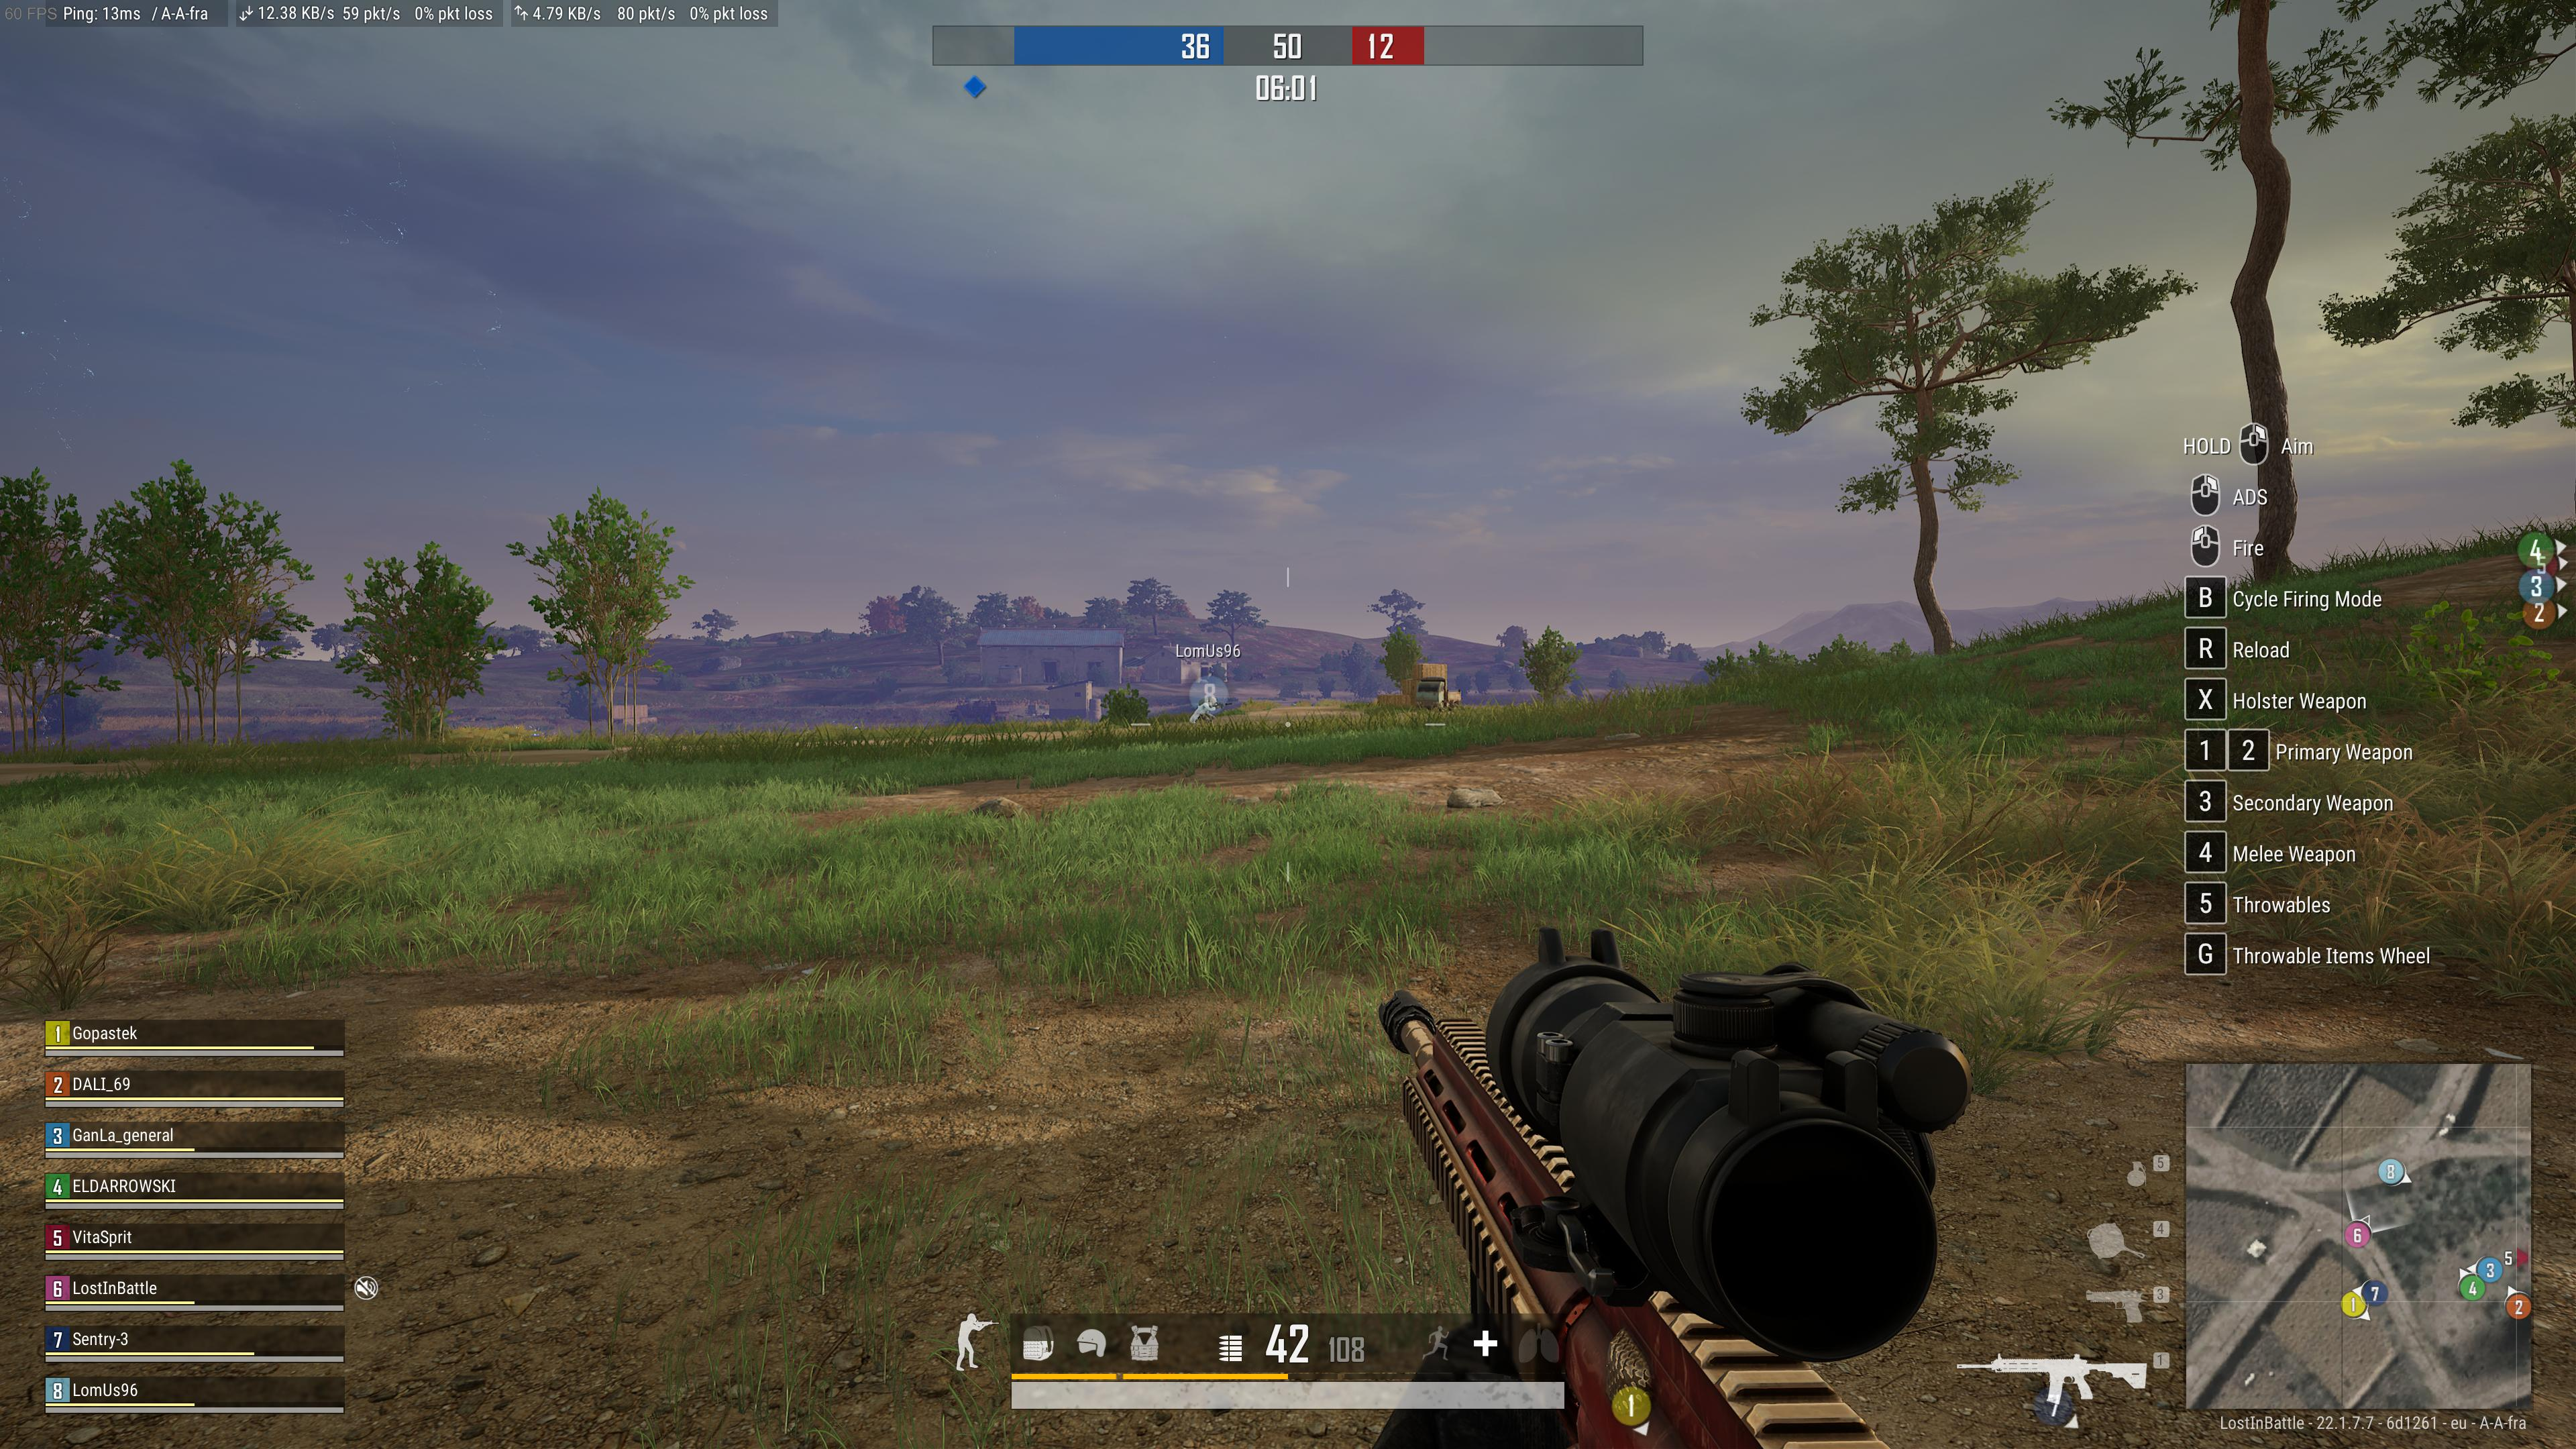friendly: (1187, 692, 1221, 727)
